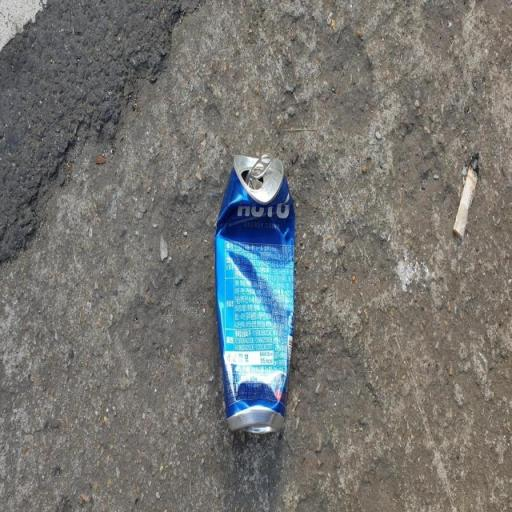metal: (192, 114, 322, 504)
